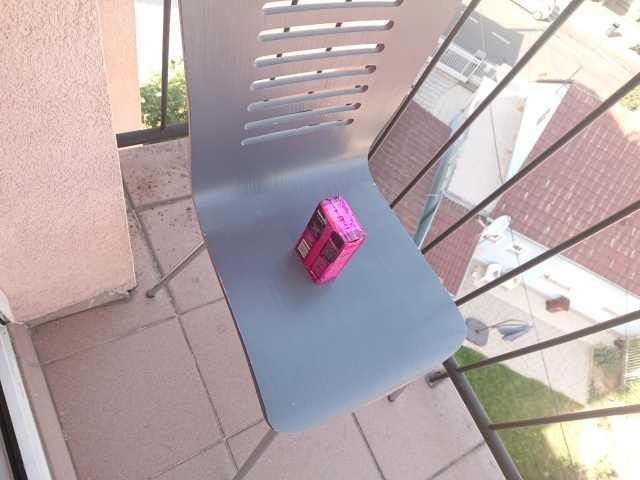Barcaffe Classic Original 225g: (293, 193, 369, 287)
